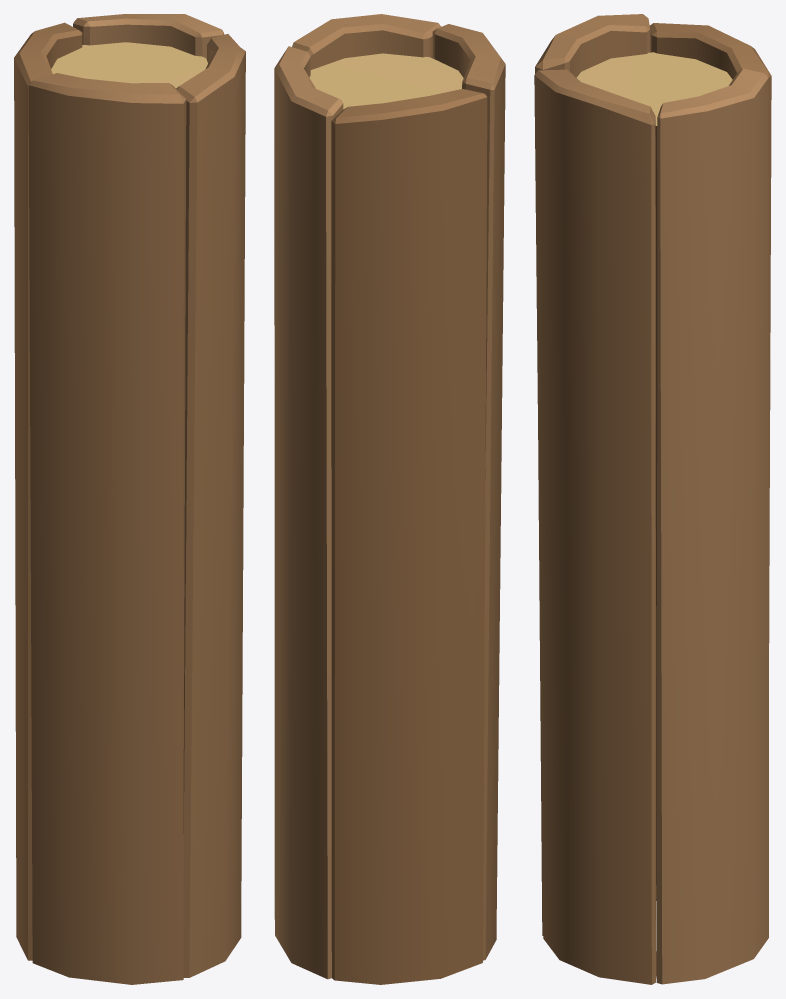
File: Signpost_C.fbx
3 renders of one model, left to right at view 1: azimuth 30°, elevation 25°; view 2: azimuth 150°, elevation 25°; view 3: azimuth 270°, elevation 25°, orthographic.
Parts seen in each view (by area): view 1: Signpost_C; view 2: Signpost_C; view 3: Signpost_C.
Part boxes in pixels (left/top/right/bottom): Signpost_C: left=14, top=14, right=245, bottom=984; Signpost_C: left=274, top=14, right=505, bottom=984; Signpost_C: left=534, top=14, right=771, bottom=984.
Size of the model in its own units: 28.32 by 118 by 28.82.
